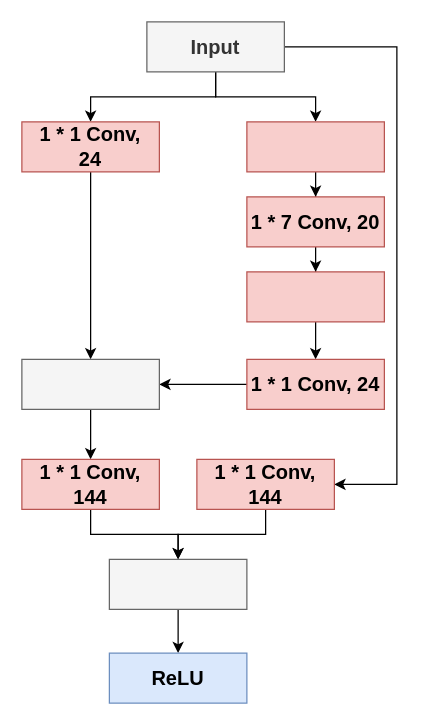
This 429x725 diagram has some shape labels left out. Here are the shapes that lost their labels. From the top down, the box of each, then its label:
(246, 121, 384, 172): 1 * 1 Conv, 16
(246, 271, 384, 322): 7 * 1 Conv, 24
(21, 358, 159, 409): Concatenate
(108, 558, 247, 609): Add
